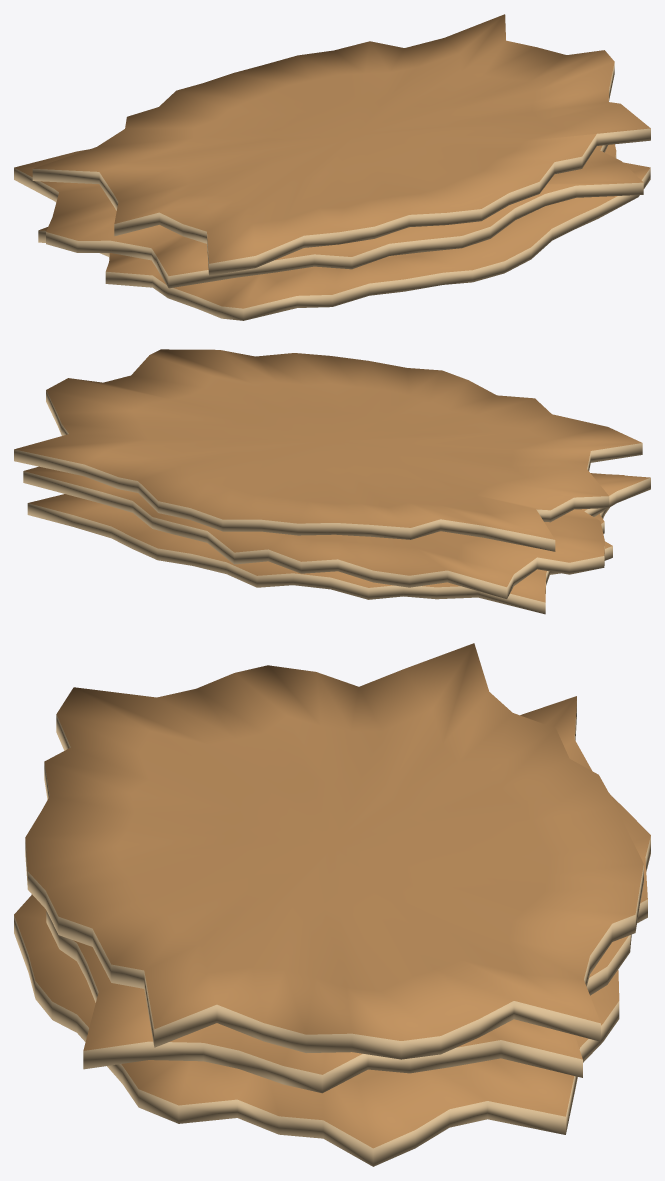
File: w3d_pelt_hide_m.glb
3 renders of one model, top to bottom at view 1: azimuth 30°, elevation 25°; view 2: azimuth 150°, elevation 25°; view 3: azimuth 270°, elevation 25°, orthographic. The views are drawn at different scales.
Visible parts, largest first — view 1: w3d_pelt_hide_m; view 2: w3d_pelt_hide_m; view 3: w3d_pelt_hide_m.
Boxes of the visible parts, left/top/right/bottom form: w3d_pelt_hide_m: left=14, top=14, right=650, bottom=320; w3d_pelt_hide_m: left=14, top=349, right=650, bottom=614; w3d_pelt_hide_m: left=14, top=643, right=650, bottom=1166.
Bounding box in the file's own units: 0.7856 × 0.1096 × 0.5015.
